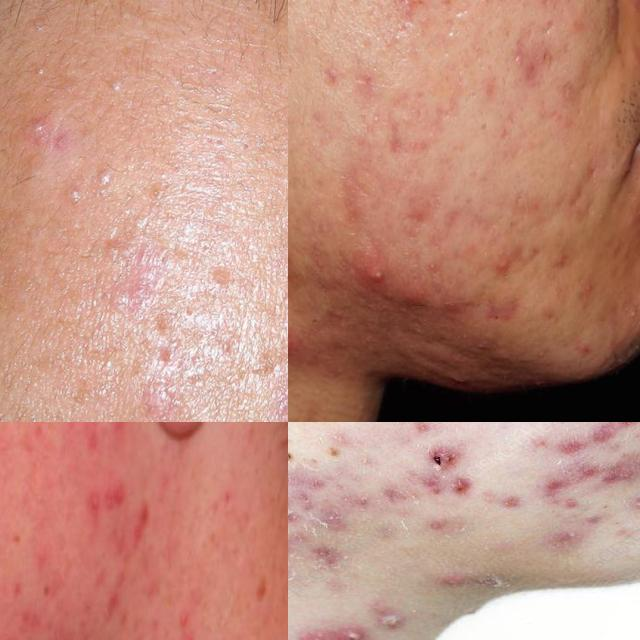acne_scars: (519, 453, 640, 497), (419, 437, 496, 505), (560, 138, 612, 234), (288, 466, 356, 531), (504, 38, 569, 101), (542, 422, 640, 451), (388, 0, 448, 39)
comedone: (491, 190, 544, 242), (102, 59, 141, 106), (96, 162, 124, 200), (114, 0, 141, 36), (32, 48, 58, 80), (63, 186, 89, 212), (34, 0, 57, 22)
papule: (20, 110, 53, 158), (105, 482, 142, 520)
pustule: (489, 252, 522, 285)
sebo-crystan-conglo: (351, 256, 411, 294), (288, 315, 318, 373), (324, 623, 388, 640)
